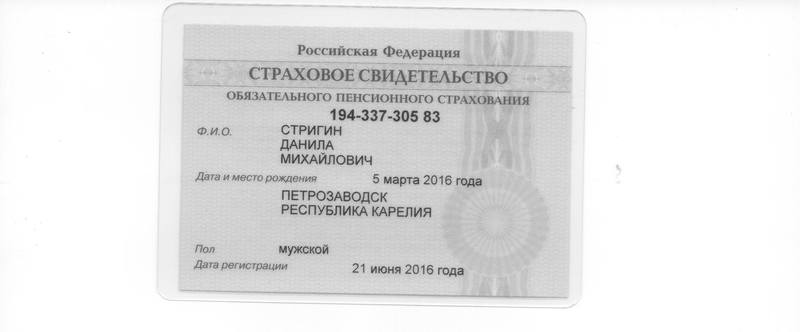text: (278, 186, 435, 221), (325, 104, 444, 125), (347, 260, 469, 279), (369, 170, 487, 189), (277, 151, 375, 168), (278, 122, 348, 138), (278, 135, 338, 152), (275, 243, 333, 257)
